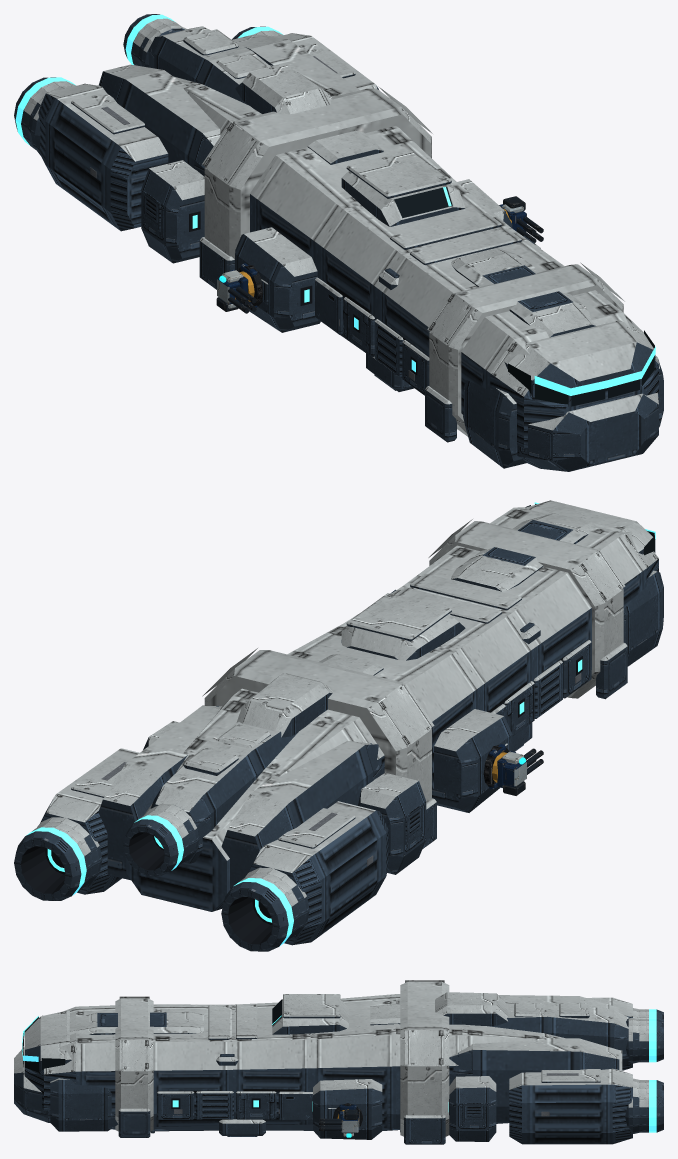
The model's file is mule.glb.
3 renders of one model, top to bottom at view 1: azimuth 30°, elevation 25°; view 2: azimuth 150°, elevation 25°; view 3: azimuth 270°, elevation 25°, orthographic. The views are drawn at different scales.
Parts seen in each view (by area): view 1: MuleApprovedHull; view 2: MuleApprovedHull; view 3: MuleApprovedHull, Mule.Port.Frigate PDC pitch 08.
Part boxes in pixels (x1,y1,x2,y2): MuleApprovedHull: [14, 14, 663, 471]; MuleApprovedHull: [14, 500, 663, 951]; MuleApprovedHull: [14, 980, 663, 1144]; Mule.Port.Frigate PDC pitch 08: [341, 1116, 358, 1133].
Bounding box in the file's own units: 0.7536 × 0.4131 × 2.
Materials: 3 (3 with a texture image).
